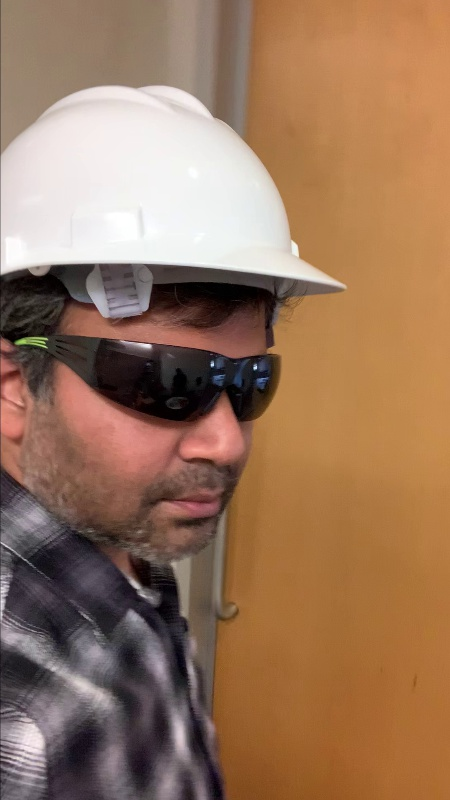glasses: (63, 344, 282, 428)
helmet: (4, 77, 335, 285)
